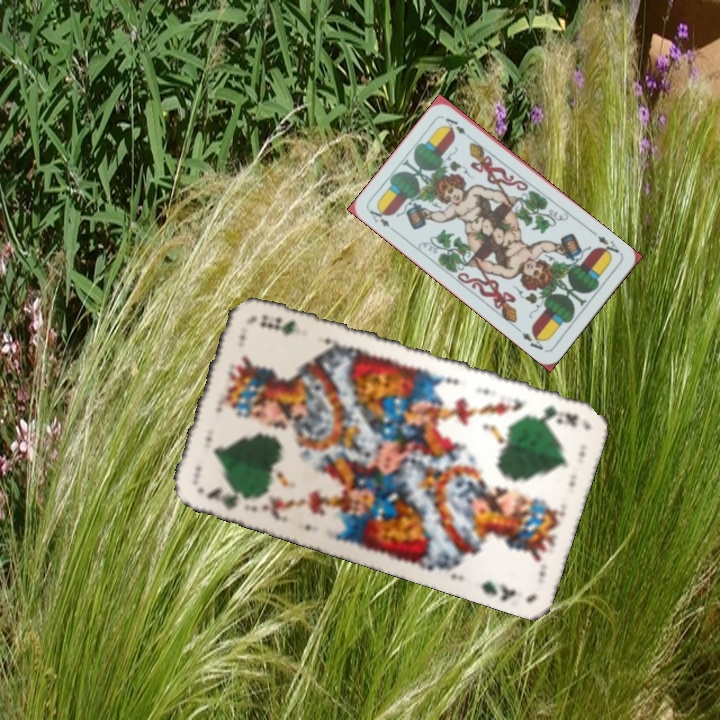EA: (593, 231, 624, 260), (365, 203, 393, 230)
GK: (202, 484, 255, 513), (537, 401, 581, 430)
